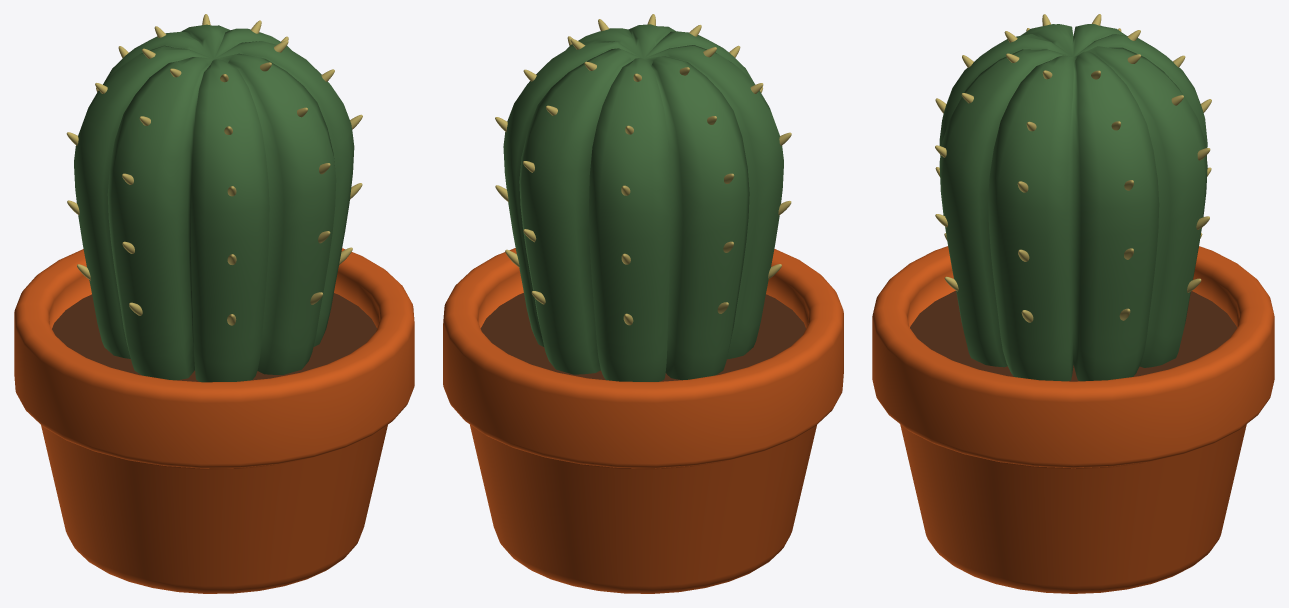
The model's file is cactus_vanilla.glb.
The picture shows the model from 3 angles, left to right: view 1: azimuth 30°, elevation 25°; view 2: azimuth 150°, elevation 25°; view 3: azimuth 270°, elevation 25°; orthographic projection.
Parts seen in each view (by area): view 1: Pot, Cactus Base, Cactus Spikes; view 2: Pot, Cactus Base, Cactus Spikes; view 3: Pot, Cactus Base, Cactus Spikes.
Part boxes in pixels (x1,y1,x2,y2): Pot: [14, 248, 414, 593]; Cactus Base: [74, 24, 354, 382]; Cactus Spikes: [66, 14, 362, 325]; Pot: [443, 248, 843, 593]; Cactus Base: [503, 24, 783, 381]; Cactus Spikes: [495, 14, 791, 325]; Pot: [872, 246, 1274, 593]; Cactus Base: [939, 24, 1207, 381]; Cactus Spikes: [935, 14, 1211, 322].
Bounding box in the file's own units: 0.6632 × 0.901 × 0.6632.
